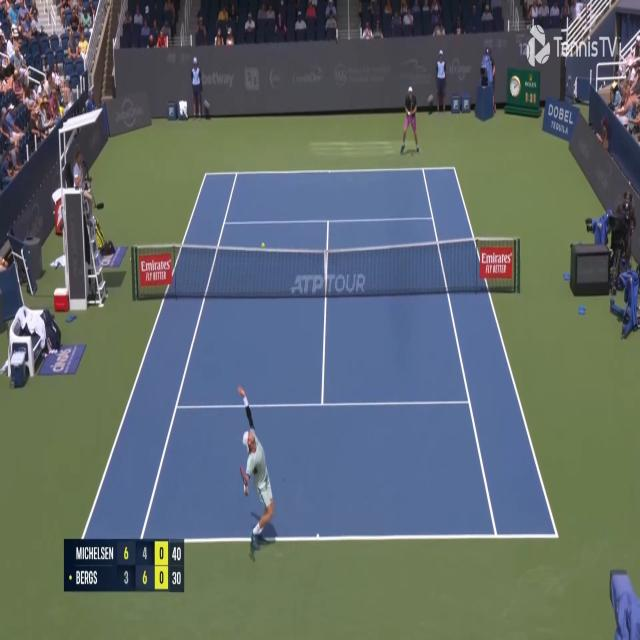tennis-player: (237, 378, 278, 558), (400, 83, 420, 156)
